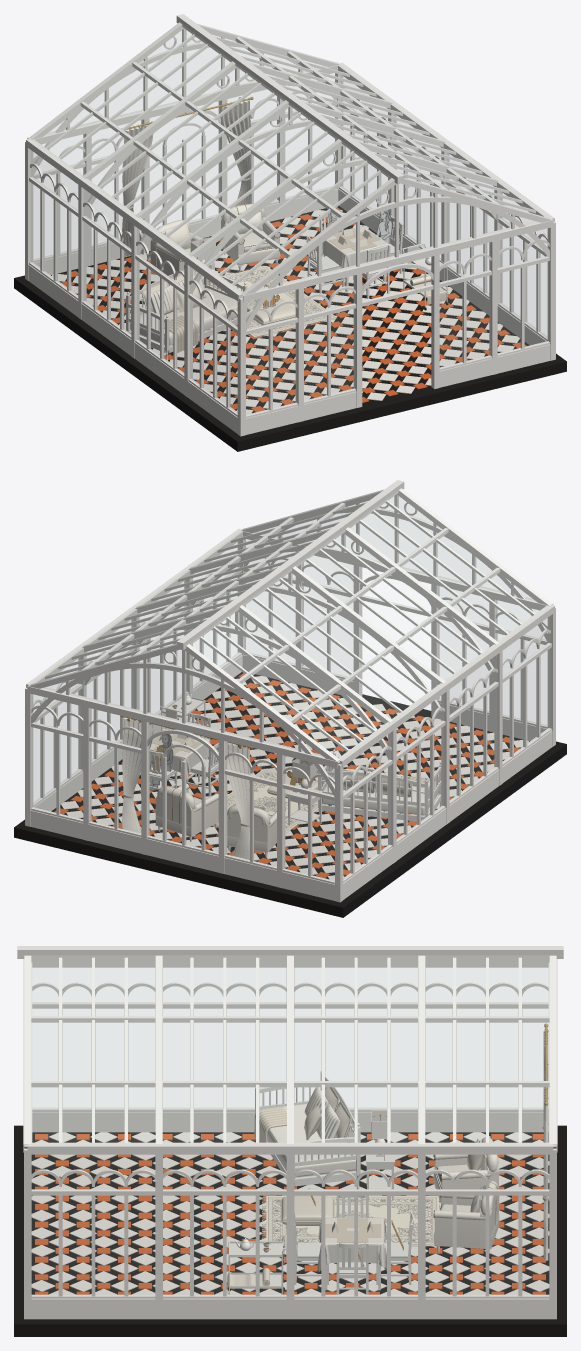
Rendered from glass-garden.glb.
The picture shows the model from 3 angles, top to bottom: view 1: azimuth 30°, elevation 25°; view 2: azimuth 150°, elevation 25°; view 3: azimuth 270°, elevation 25°; orthographic projection. The views are drawn at different scales.
Parts seen in each view (by area): view 1: White frame, Glass roof W, Glass walls, Grout ground, White diamond tiles (×2), Glass roof E, Knee wall, Glass gables, Orange tiles (×2), Arched ribs, Arches + rings, Curtains (+11 smaller); view 2: White frame, Glass roof W, Glass walls, Grout ground, Glass roof E, Knee wall, White diamond tiles (×2), Glass gables, Arched ribs, Orange tiles (×2), Arches + rings, Curtains (+8 smaller); view 3: Glass roof E, White frame, Glass walls, Grout ground, White diamond tiles (×2), Knee wall, Orange tiles (×2), Arches + rings, Rug top, Armchair B, Daybed, Armchair A (+14 smaller).
Part boxes in pixels (x1,y1,x2,y2): White frame: (25, 14, 555, 436); Glass roof W: (31, 24, 391, 293); Glass walls: (31, 151, 548, 414); Grout ground: (14, 206, 566, 451); White diamond tiles (×2): (52, 210, 519, 414); Glass roof E: (200, 25, 547, 217); Knee wall: (28, 189, 550, 434); Glass gables: (260, 184, 535, 289); Orange tiles (×2): (61, 207, 526, 412); Arched ribs: (33, 41, 549, 330); Arches + rings: (30, 34, 549, 321); Curtains: (122, 100, 251, 257); White frame: (25, 480, 555, 902); Glass roof W: (189, 490, 549, 759); Glass walls: (32, 617, 549, 880); Grout ground: (14, 672, 566, 917); Glass roof E: (33, 491, 380, 683); Knee wall: (30, 655, 552, 900); White diamond tiles (×2): (61, 676, 528, 880); Glass gables: (45, 650, 320, 755); Arched ribs: (31, 507, 547, 796); Orange tiles (×2): (54, 673, 519, 878); Arches + rings: (31, 500, 550, 787); Curtains: (122, 718, 250, 859); Glass roof E: (28, 956, 552, 1143); White frame: (17, 946, 563, 1319); Glass walls: (32, 1155, 548, 1294); Grout ground: (14, 1125, 566, 1336); White diamond tiles (×2): (31, 1132, 549, 1294); Knee wall: (31, 1112, 549, 1319); Orange tiles (×2): (35, 1134, 545, 1294); Arches + rings: (31, 982, 549, 1186); Rug top: (266, 1196, 438, 1245); Armchair B: (433, 1180, 499, 1253); Daybed: (255, 1071, 360, 1189); Armchair A: (433, 1137, 499, 1204).
Size of the model in its own units: 6.8 by 4.62 by 8.
Materials: 11 (4 with a texture image).
